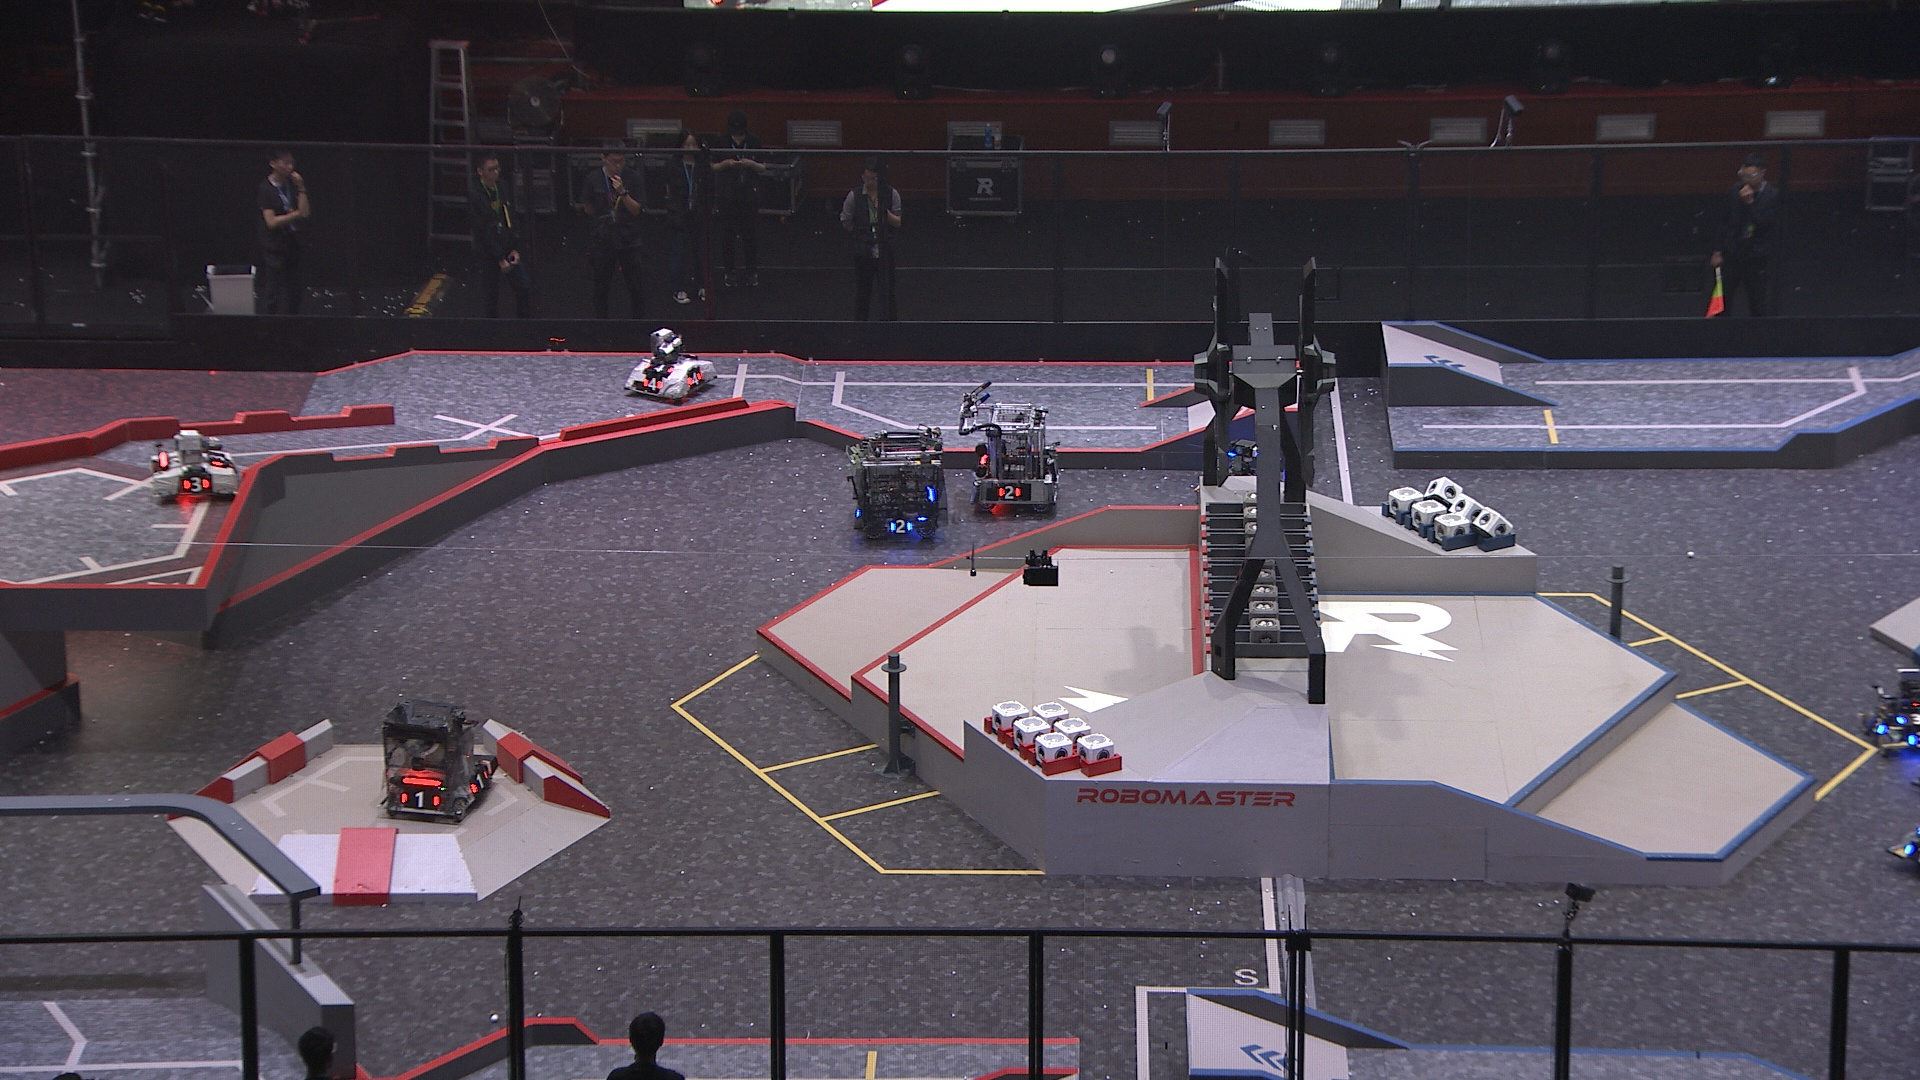armor: (400, 790, 439, 811), (467, 767, 491, 796), (182, 473, 212, 493), (887, 517, 916, 537), (1896, 712, 1920, 731), (646, 361, 675, 376), (997, 485, 1022, 501), (641, 376, 665, 392), (1869, 717, 1887, 737), (207, 452, 228, 467), (686, 371, 703, 386)
car: (378, 698, 500, 822), (844, 427, 948, 546), (961, 401, 1062, 517), (624, 327, 716, 406), (149, 431, 237, 508), (1851, 671, 1920, 760)
